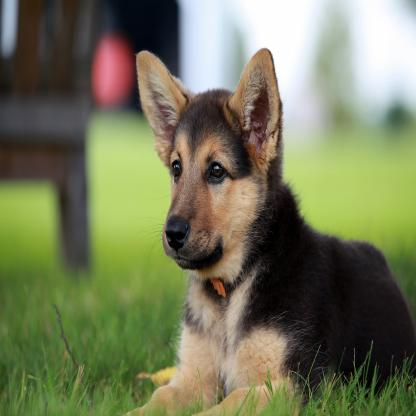german shepherd: (132, 44, 416, 414)
